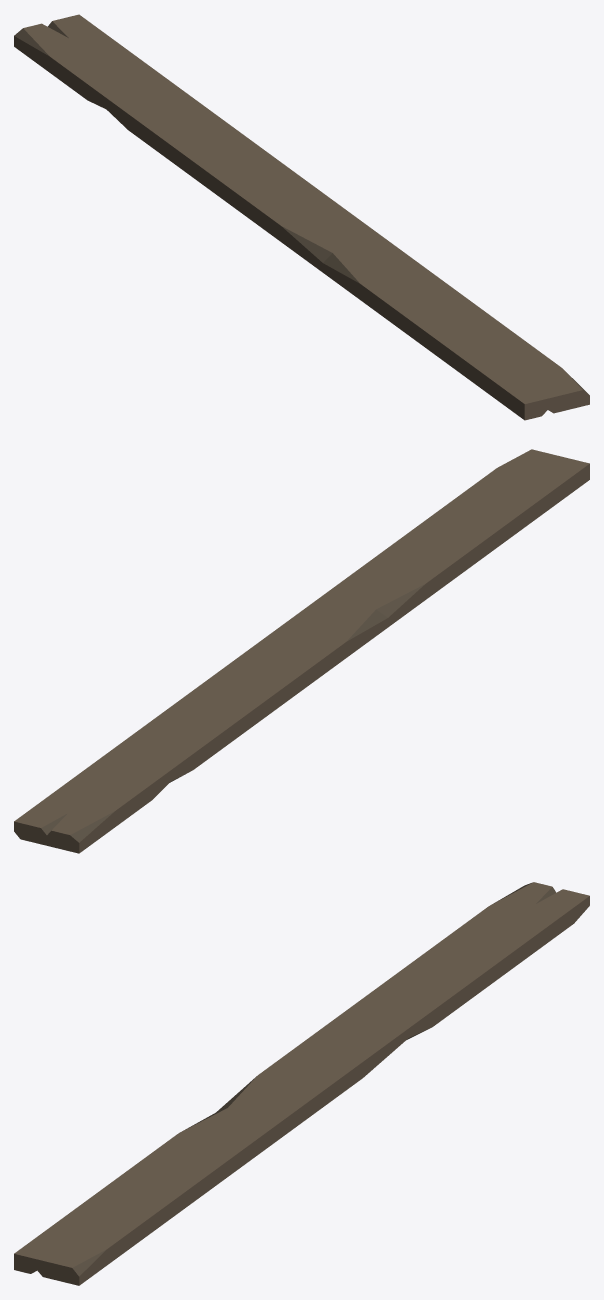
Rendered from kingdom_SM_Prop_Plank_01.gltf.
3 views of the same model, one above another, from view 1: azimuth 30°, elevation 25°; view 2: azimuth 150°, elevation 25°; view 3: azimuth 330°, elevation 25° (orthographic).
Visible parts, largest first — view 1: SM_Prop_Plank_01; view 2: SM_Prop_Plank_01; view 3: SM_Prop_Plank_01.
Part boxes in pixels (box(x1,y1,x2,y2)): SM_Prop_Plank_01: box(14, 14, 589, 420); SM_Prop_Plank_01: box(14, 449, 589, 853); SM_Prop_Plank_01: box(14, 882, 589, 1285).
Size of the model in its own units: 0.3684 by 0.0879 by 5.
1 material, 1 textured.
